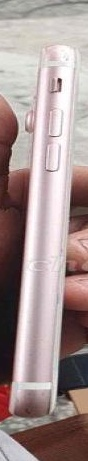scratch: (18, 300, 62, 362), (14, 371, 53, 418), (45, 226, 72, 262), (55, 46, 75, 64)
